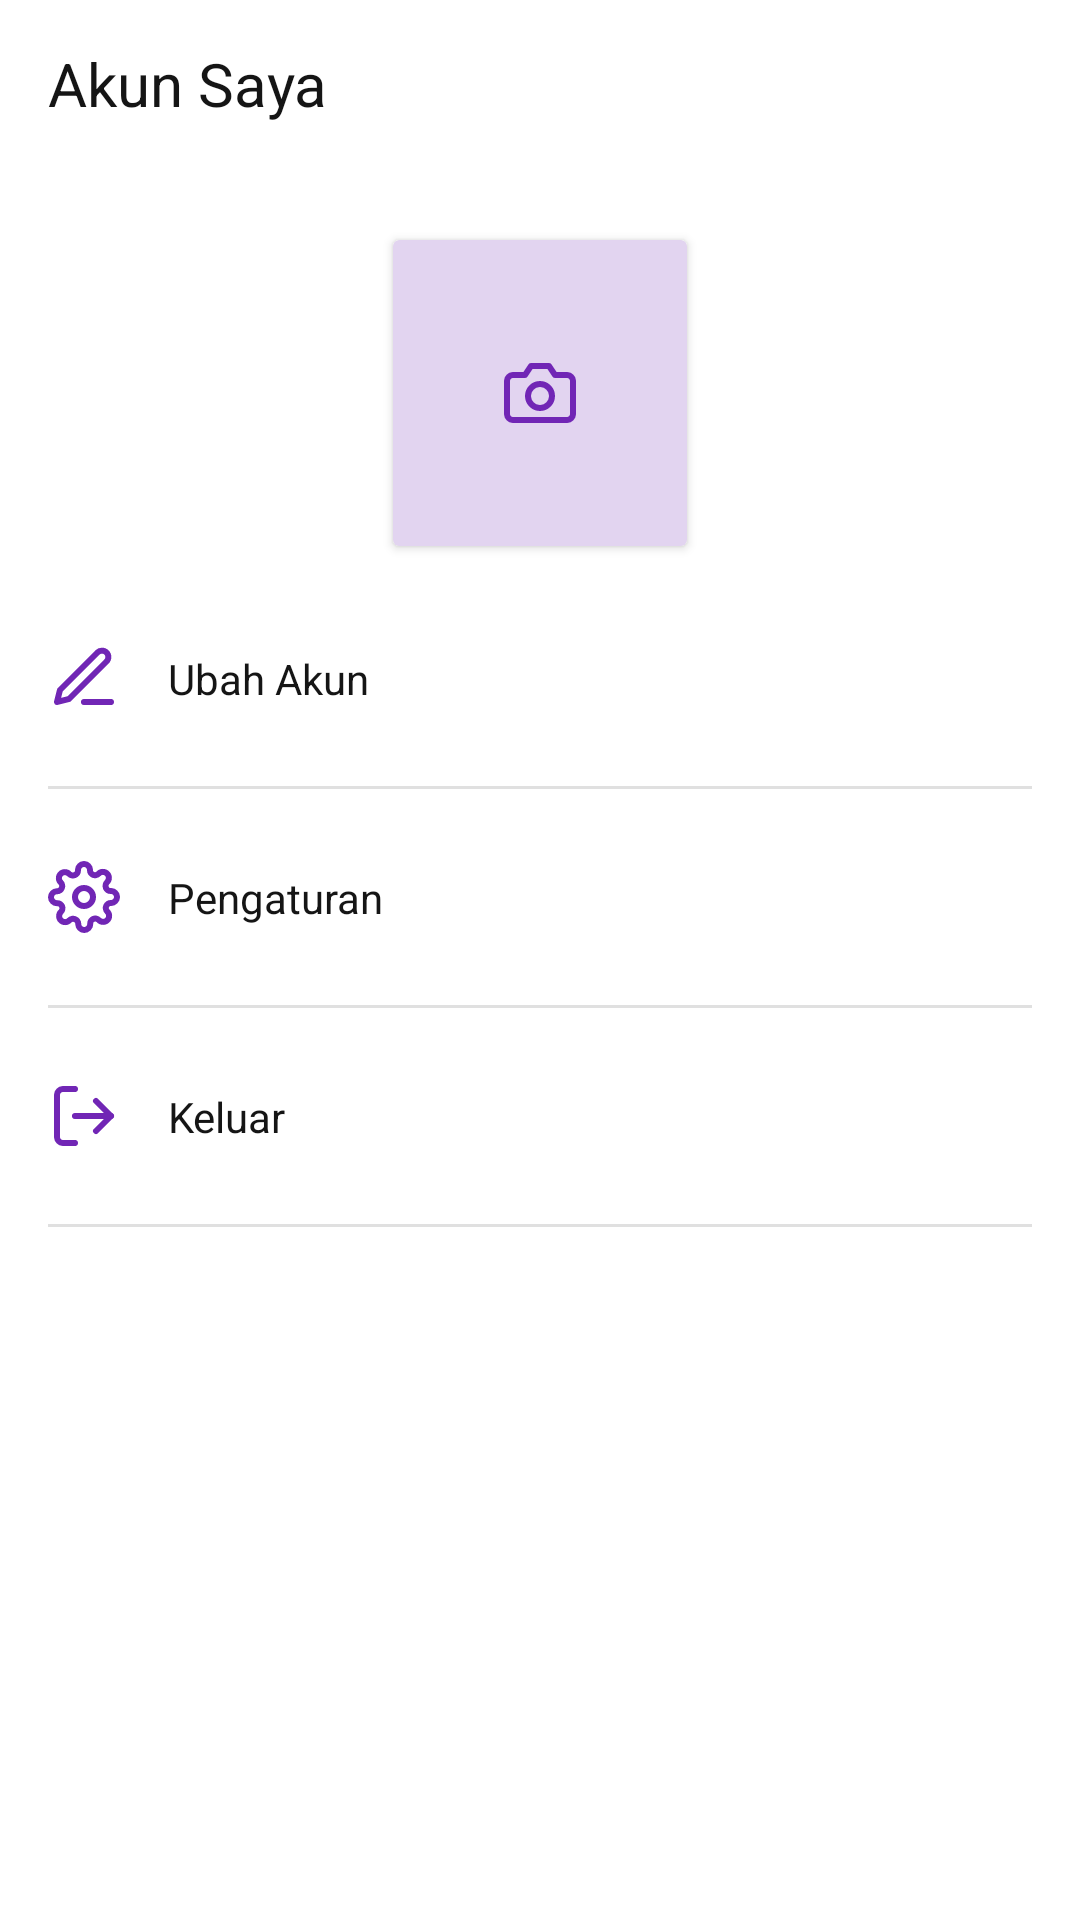

Where to tap for icons on this 1080px×1920px app screen, as point (x, y):
camera: point (540, 393)
edit: point (84, 676)
log out: point (84, 1116)
settings: point (84, 897)
